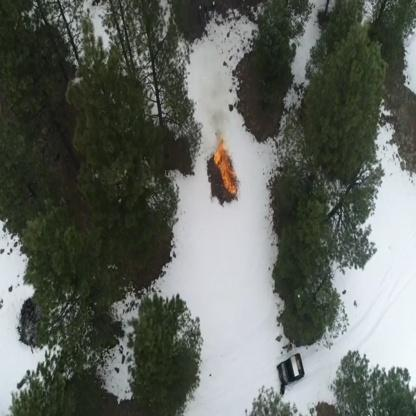Fire: (212, 136, 238, 197)
